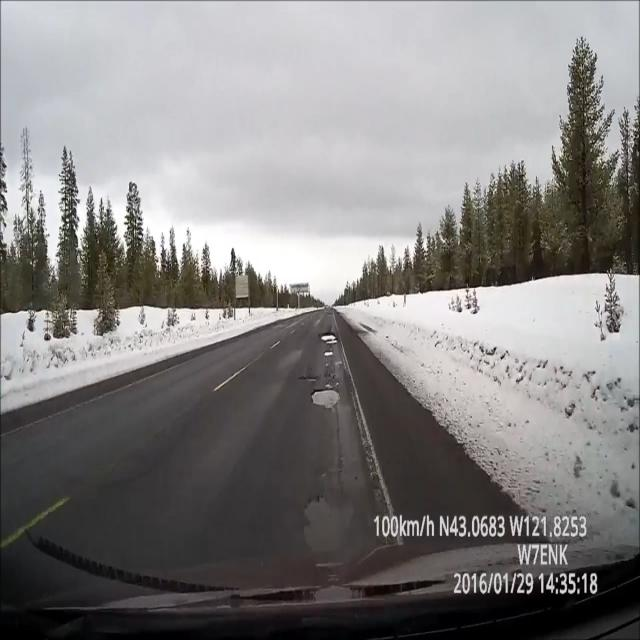Pothole: (304, 479, 356, 561), (296, 368, 355, 422), (316, 325, 341, 359)
